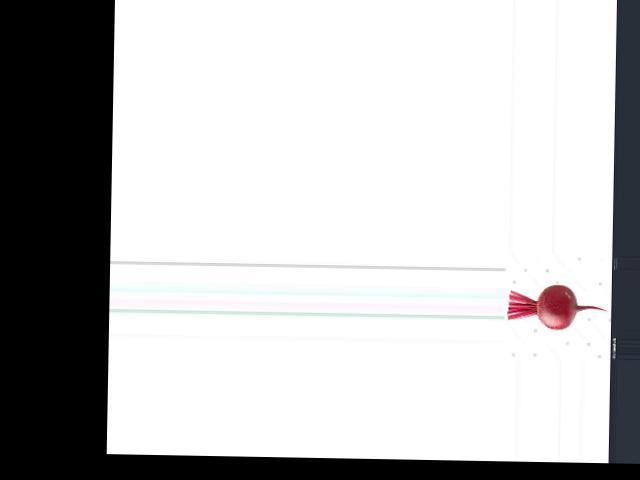beet: (507, 283, 609, 330)
